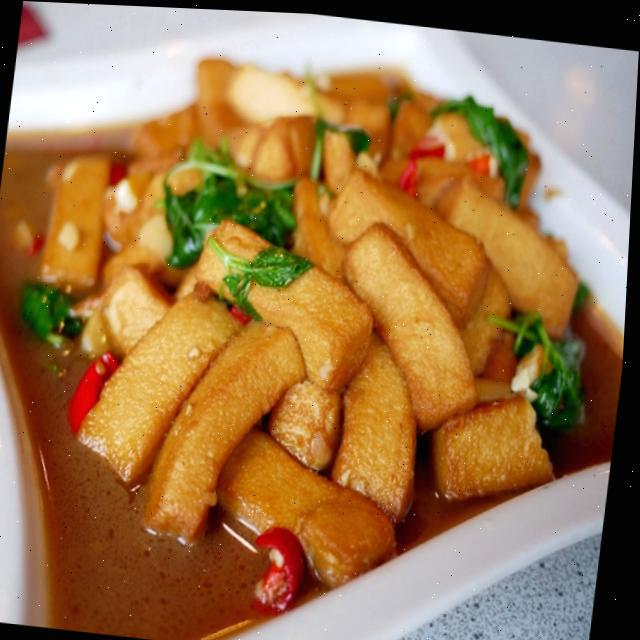豆腐料理: (0, 6, 640, 640)
